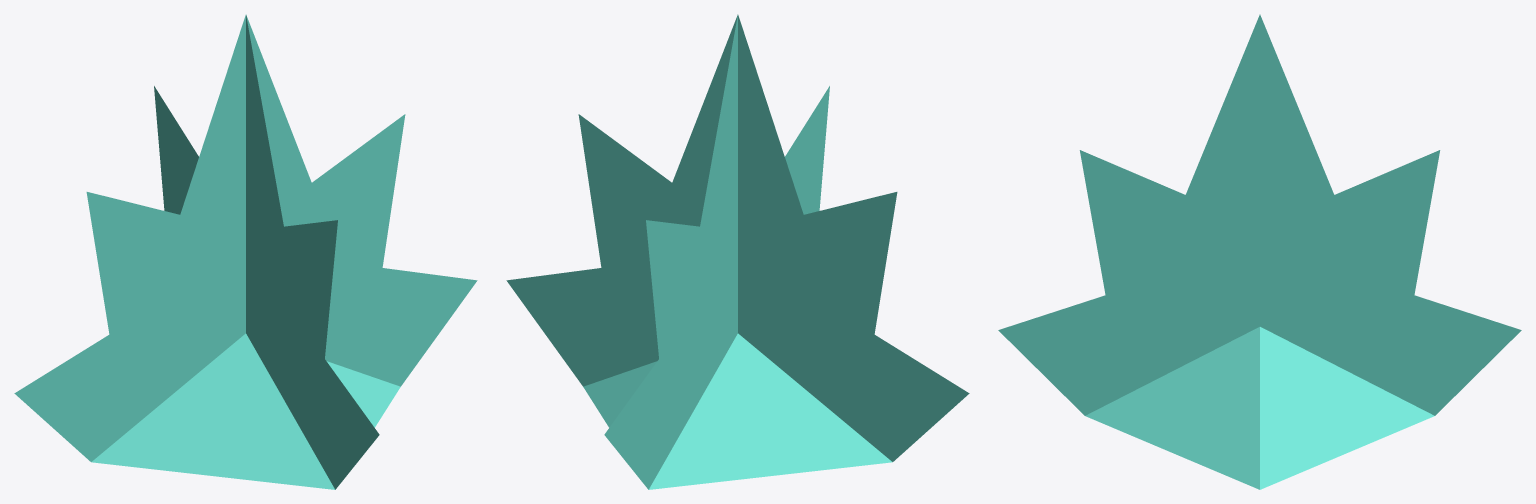
File: plant_flatShort.glb
3 views of the same model, side by side, from view 1: azimuth 30°, elevation 25°; view 2: azimuth 150°, elevation 25°; view 3: azimuth 270°, elevation 25° (orthographic). The views are drawn at different scales.
Parts seen in each view (by area): view 1: plant_flatShort; view 2: plant_flatShort; view 3: plant_flatShort.
Boxes of the visible parts, x1,y1,x2,y2 form: plant_flatShort: (14, 14, 477, 489); plant_flatShort: (506, 14, 969, 489); plant_flatShort: (998, 14, 1521, 489).
Size of the model in its own units: 0.2776 by 0.2351 by 0.2776.
